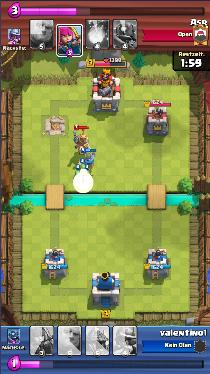ally_knight: (80, 151, 94, 167)
enemy_prince: (71, 130, 90, 154)
